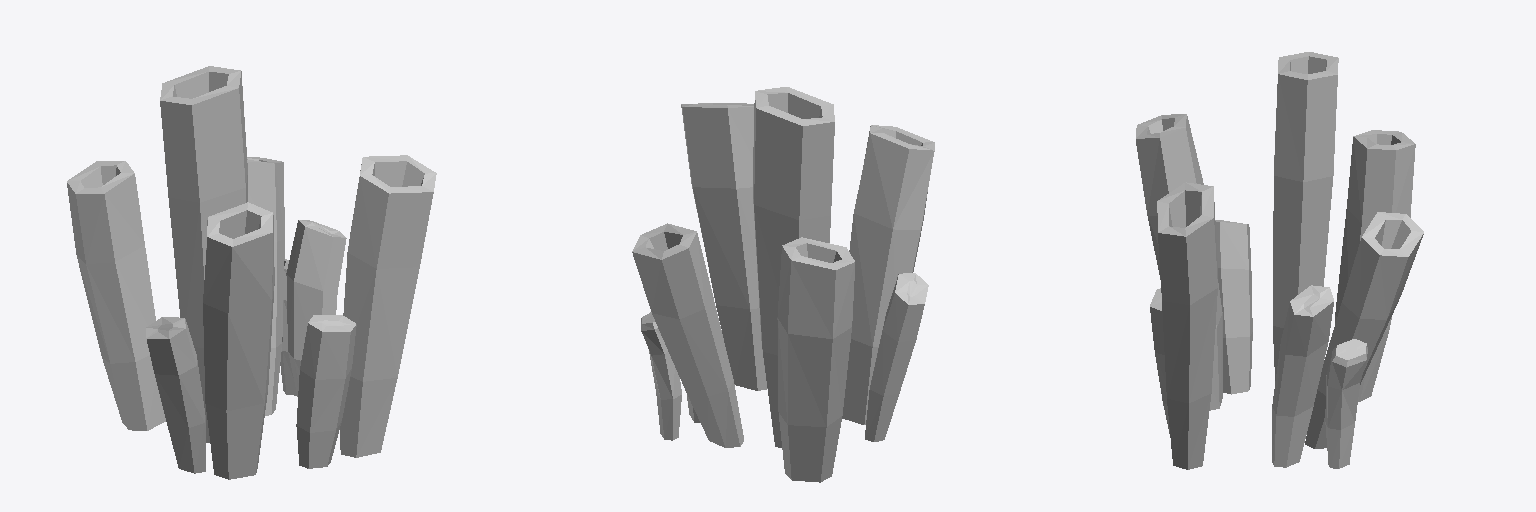
File: Coral_D_01_LOD2.obj
The picture shows the model from 3 angles: view 1: azimuth 30°, elevation 25°; view 2: azimuth 150°, elevation 25°; view 3: azimuth 270°, elevation 25°; orthographic projection.
Parts seen in each view (by area): view 1: Coral_D_01_LOD2_Cylinder.432; view 2: Coral_D_01_LOD2_Cylinder.432; view 3: Coral_D_01_LOD2_Cylinder.432.
Part boxes in pixels (bbox=[...]): Coral_D_01_LOD2_Cylinder.432: bbox=[67, 66, 436, 479]; Coral_D_01_LOD2_Cylinder.432: bbox=[632, 87, 934, 482]; Coral_D_01_LOD2_Cylinder.432: bbox=[1136, 52, 1423, 469].
Size of the model in its own units: 3.86 by 4.83 by 3.61.